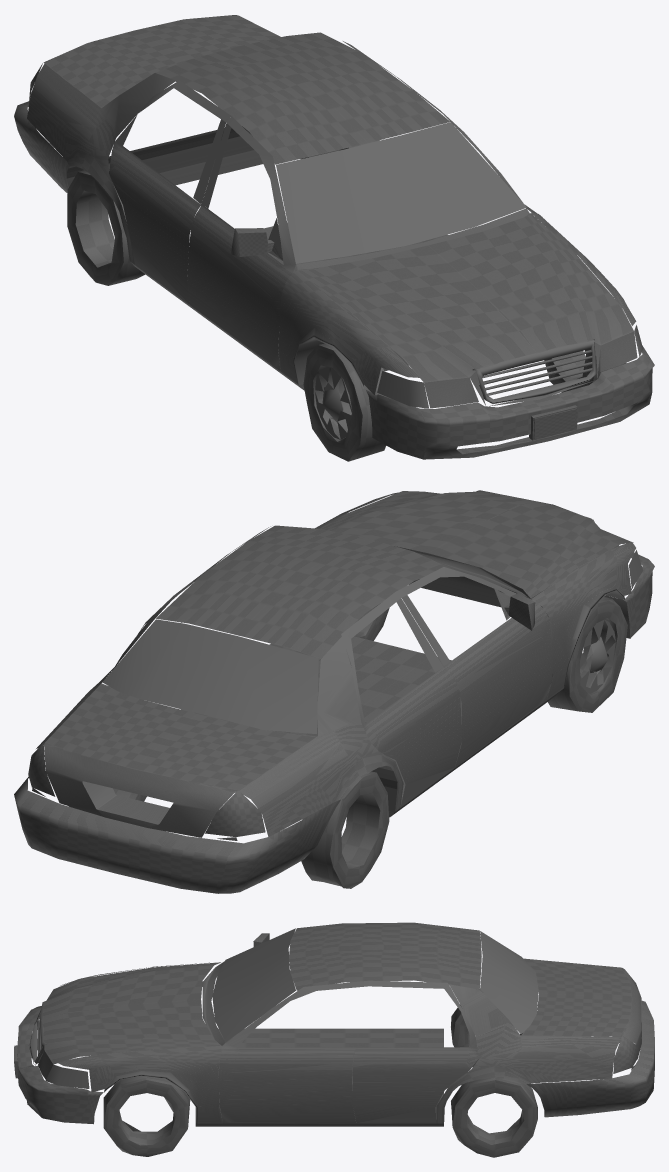
The model's file is vehic.glb.
The picture shows the model from 3 angles, top to bottom: view 1: azimuth 30°, elevation 25°; view 2: azimuth 150°, elevation 25°; view 3: azimuth 270°, elevation 25°; orthographic projection. The views are drawn at different scales.
Parts seen in each view (by area): view 1: vehic; view 2: vehic; view 3: vehic.
Boxes of the visible parts, x1,y1,x2,y2 form: vehic: (14, 15, 654, 461); vehic: (14, 490, 654, 893); vehic: (14, 922, 654, 1157).
Size of the model in its own units: 208 by 153 by 540.
1 material, 1 textured.
